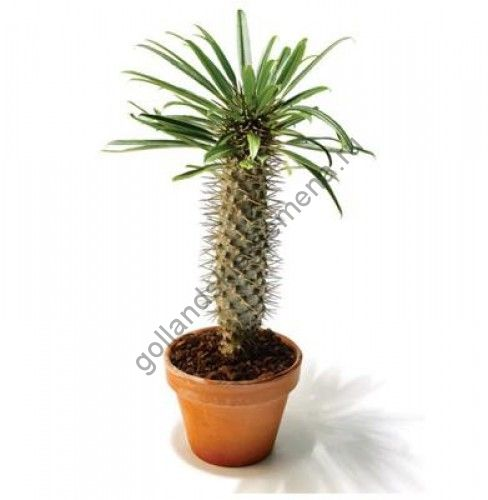Pachypodium geayi: (144, 39, 343, 364)
